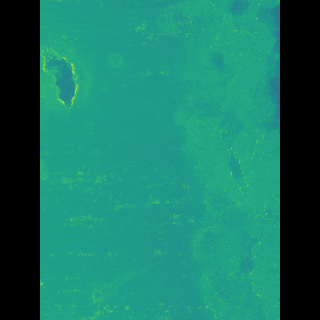Loch: (157, 0, 250, 320), (70, 37, 105, 122)
